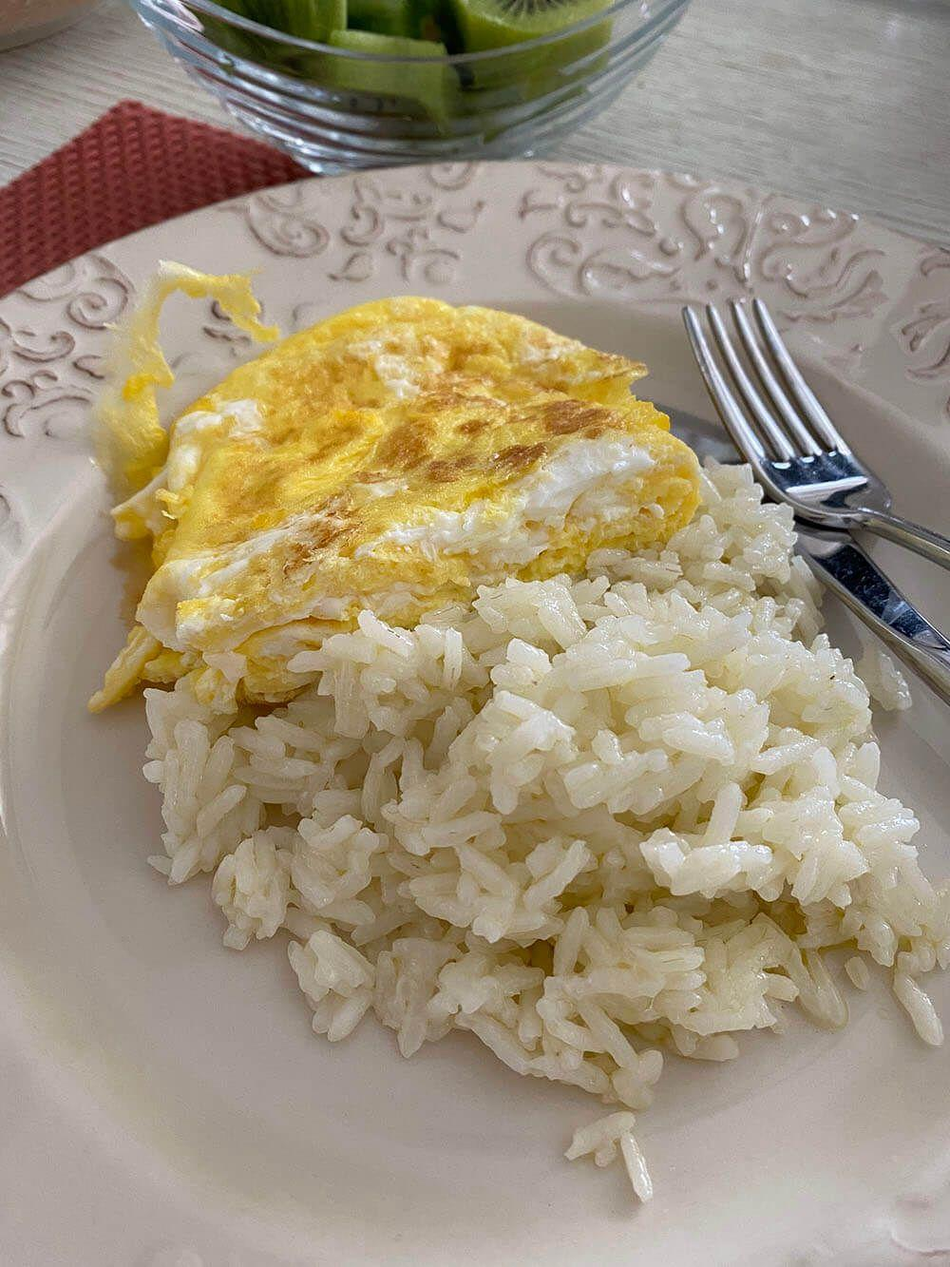makanan_berpati: (424, 641, 799, 987)
telur: (225, 359, 597, 562)
